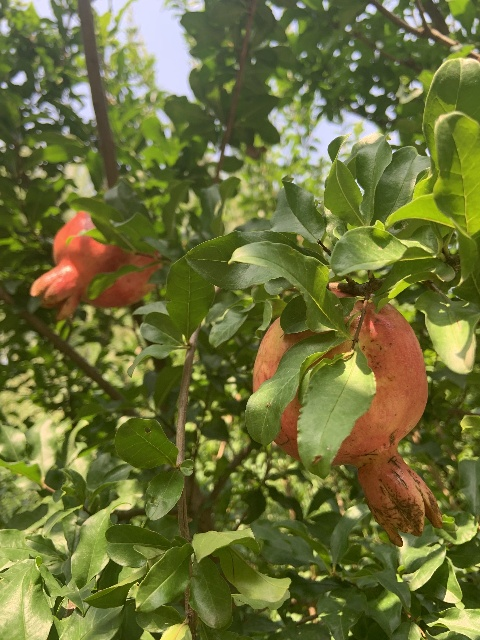ripe: (252, 282, 443, 546), (30, 211, 165, 320)
